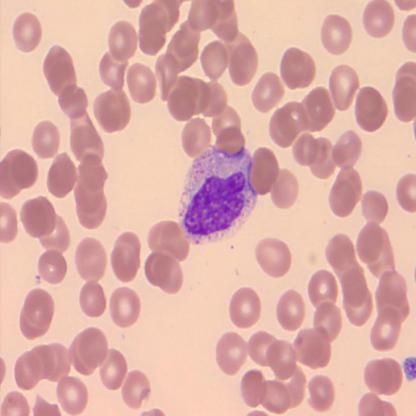Myelocyte: (178, 146, 257, 243)
